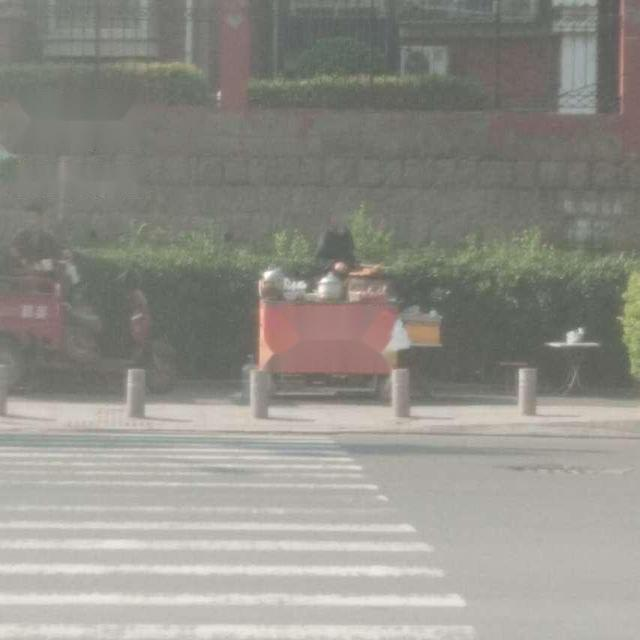car: (2, 260, 176, 399), (257, 289, 398, 401)
fixed_stall: (256, 260, 443, 321)
